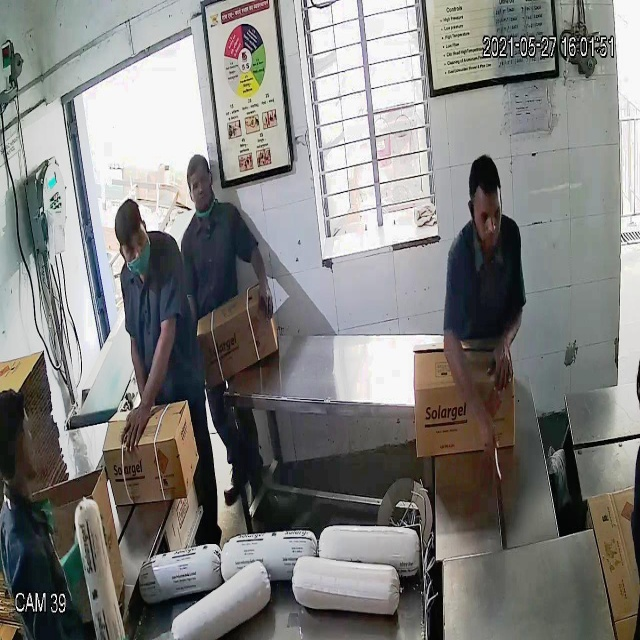Sin_gafas: (467, 198, 508, 233), (114, 224, 151, 262)
